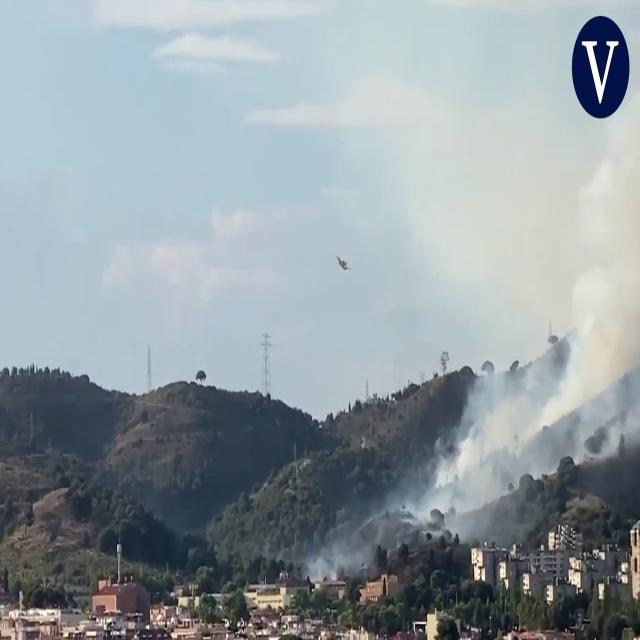Smoke: (540, 1, 640, 474), (406, 351, 554, 541)
